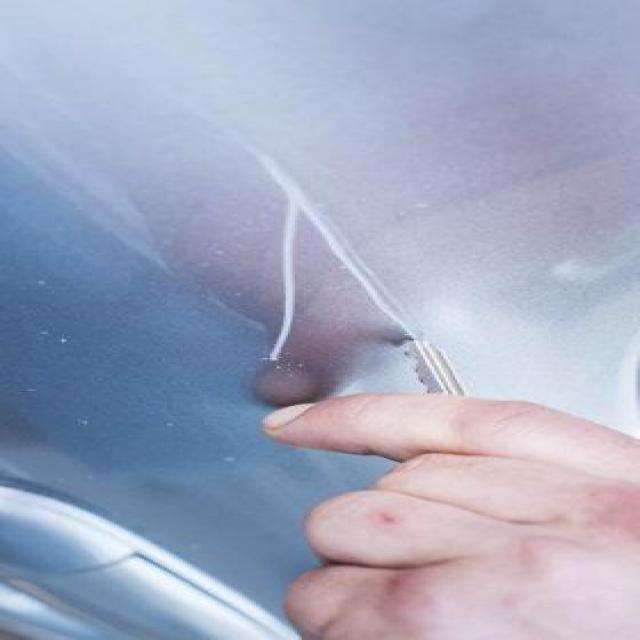scratch: (242, 173, 332, 368), (354, 231, 409, 331)
